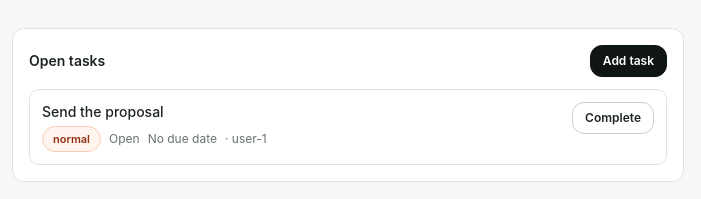
Test: TasksPanel › carries the record through to the create form
Expected: the button "Send the proposal" is shown, [42,102,164,122]
What coordinates should you click on to do the following:
click the button "Add task"
I would click on:
 (628, 61)
Its box is [590,45,667,77].
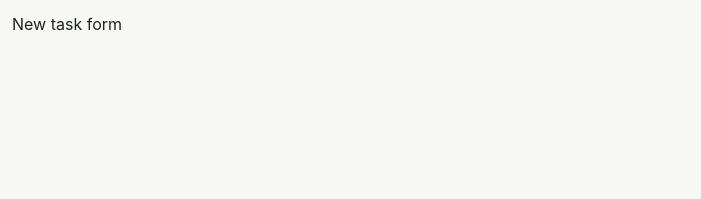
Expected: the text "New task form" is shown, [12,14,122,34]
